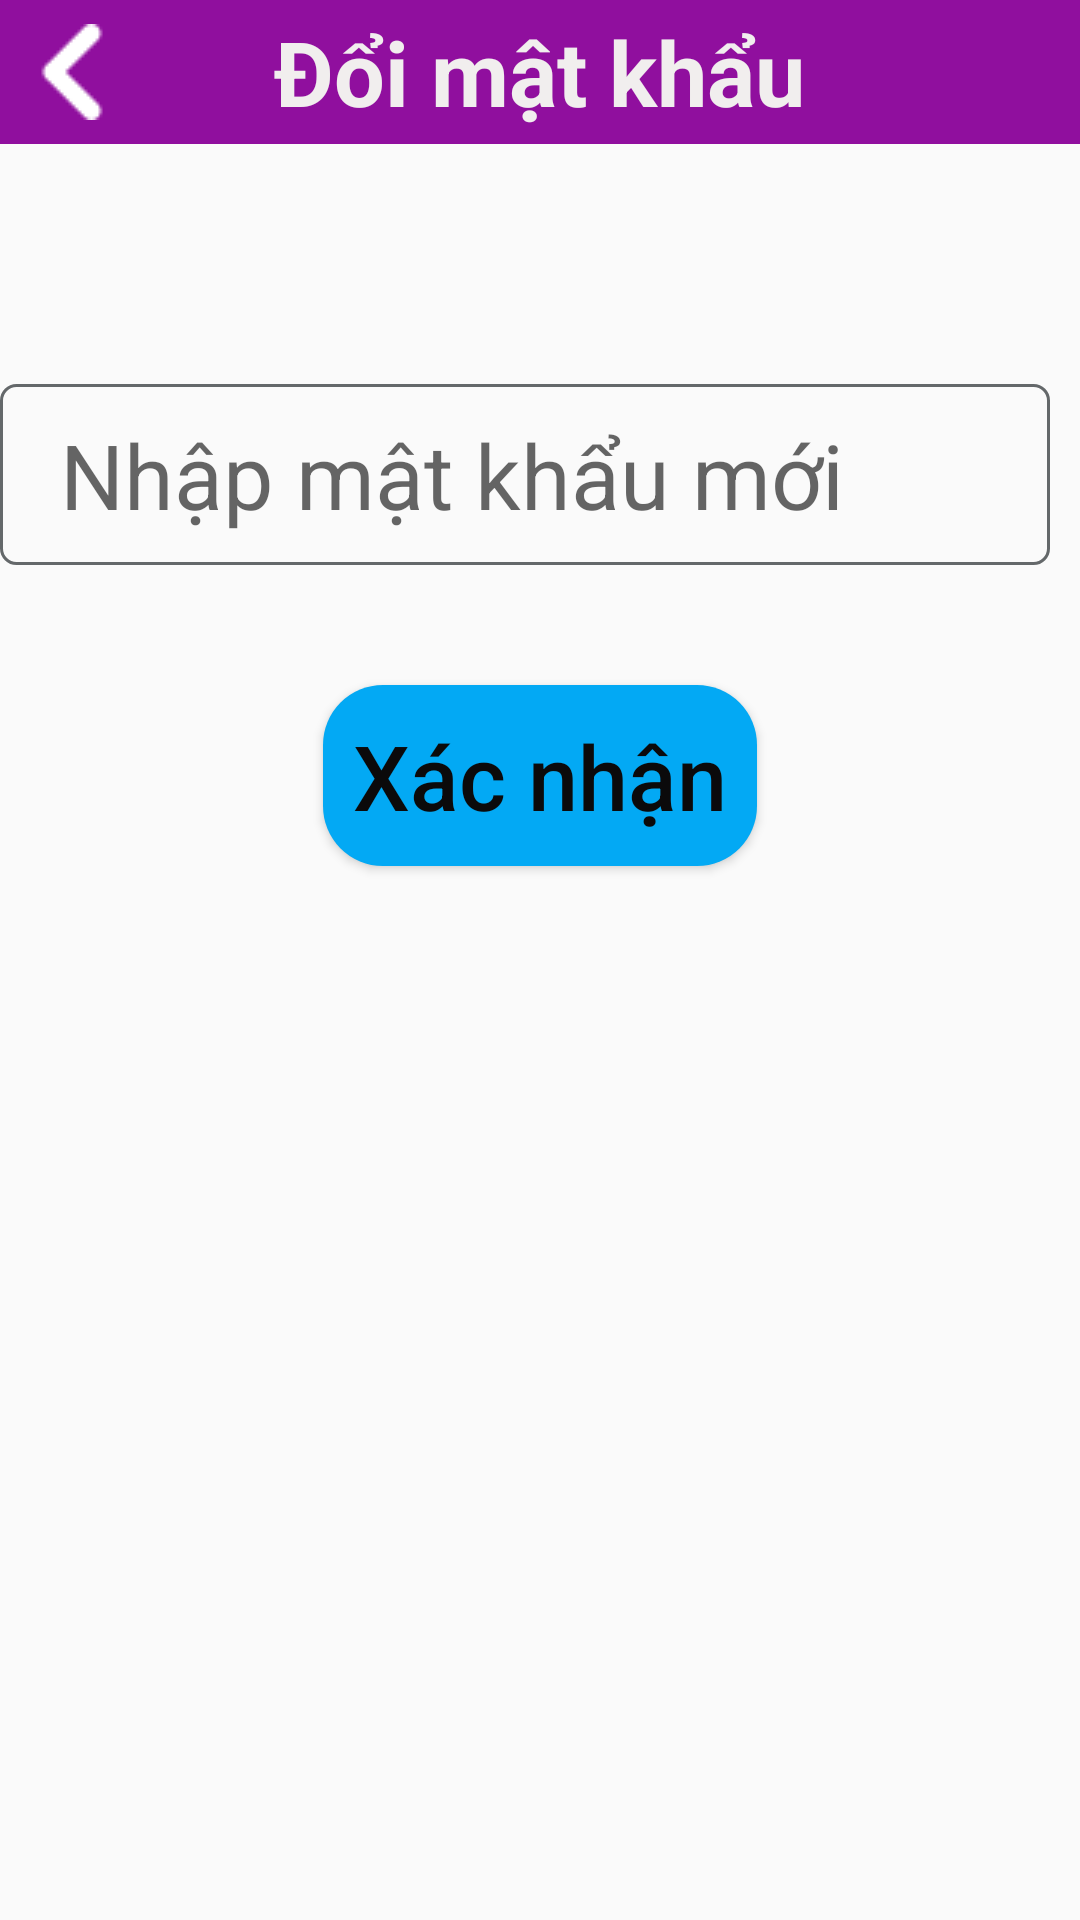

Locate icon controls on the screen. Image size 1080×1920, boxes as (left=x1, top=y1, right=x2, bottom=y2).
backk trang: (left=41, top=24, right=103, bottom=120)
